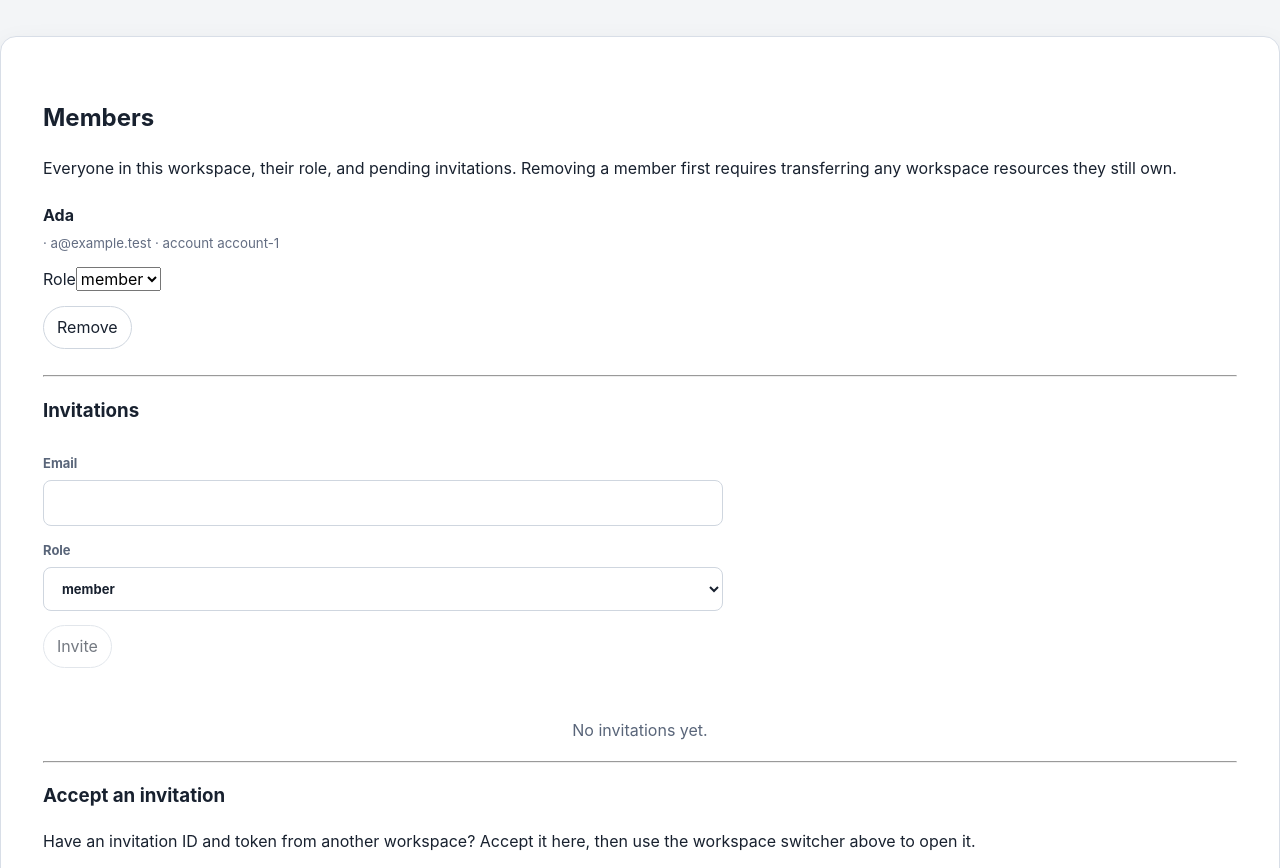
Test: MembersPanel › shows a try-again message when the membership lock stays busy after the retry
Check: the text "Ada" is shown, box [43, 205, 74, 225]
Click the button "Remove".
click(87, 327)  # box [43, 306, 132, 349]
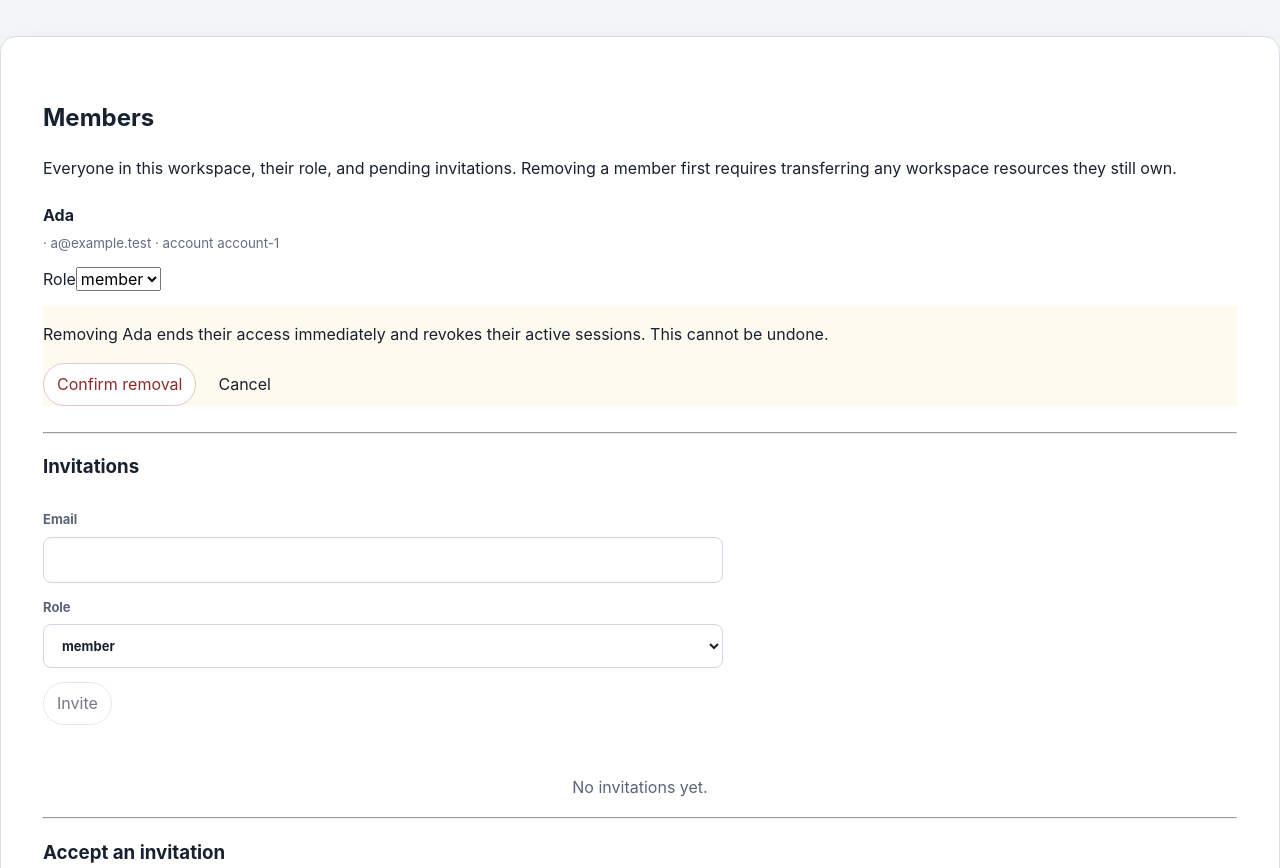
Click the button "Confirm removal".
click(120, 384)  # box [43, 363, 196, 406]
Wait 8000 ms
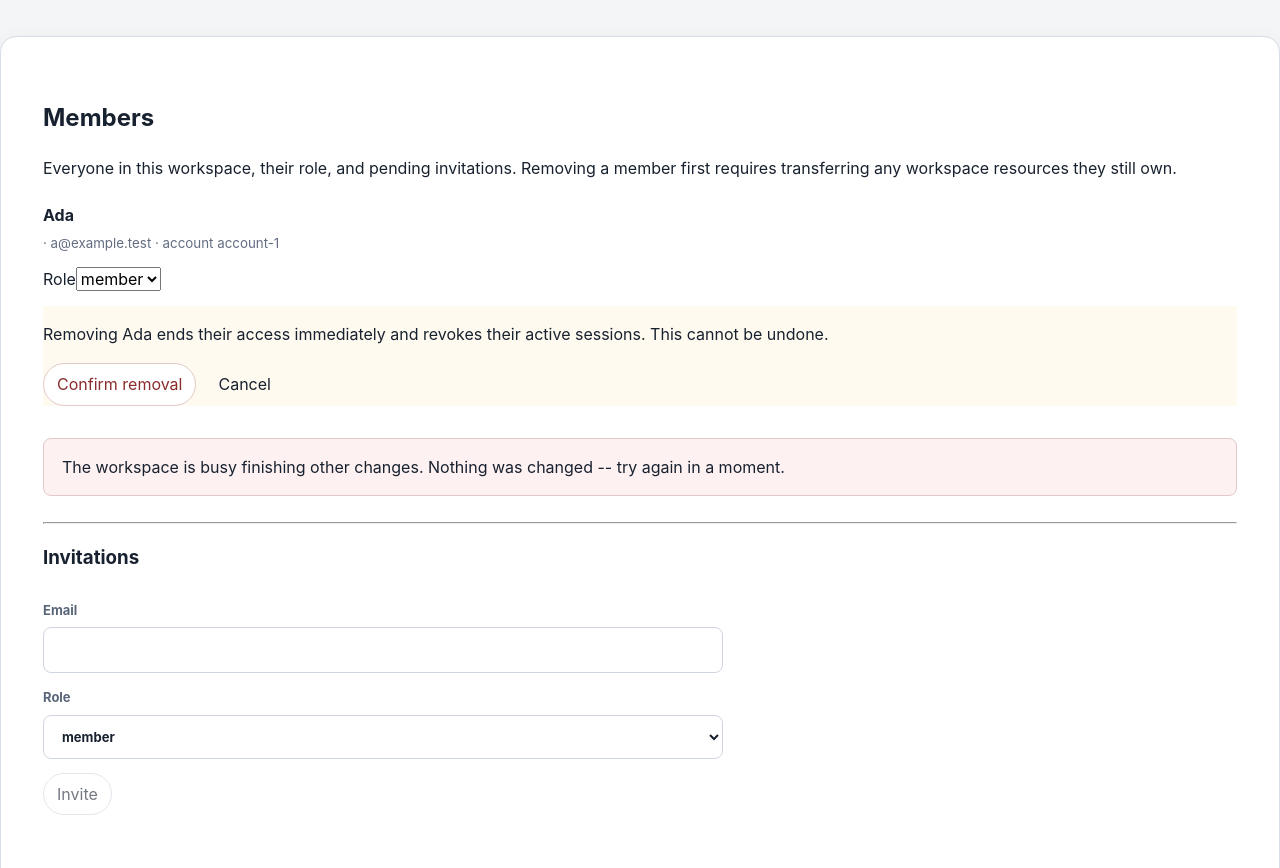
Check: the text "busy finishing other changes" is shown, box [62, 457, 785, 477]
